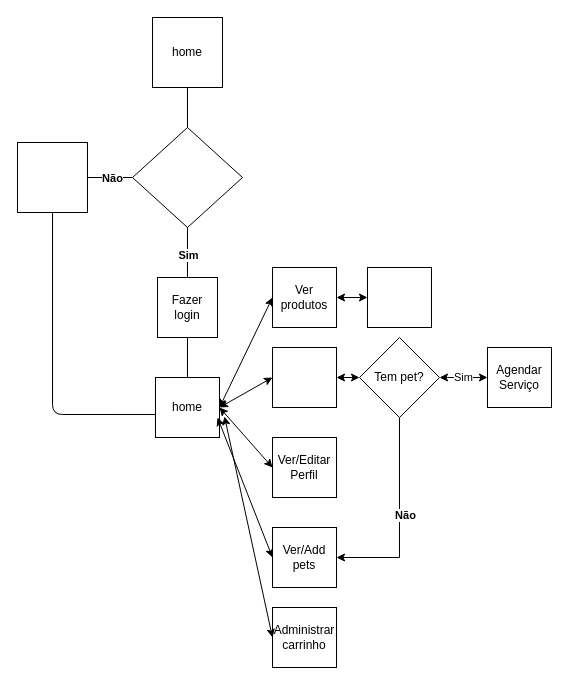
This 569x685 diagram has some shape labels left out. Each missing label, with the box of its shape:
Adicionar produto carrinho ou ocmprar: (366, 266, 432, 328)
cadastro: (16, 142, 88, 212)
Ver serviços: (272, 346, 336, 408)
é cadastrado?: (132, 126, 242, 228)
